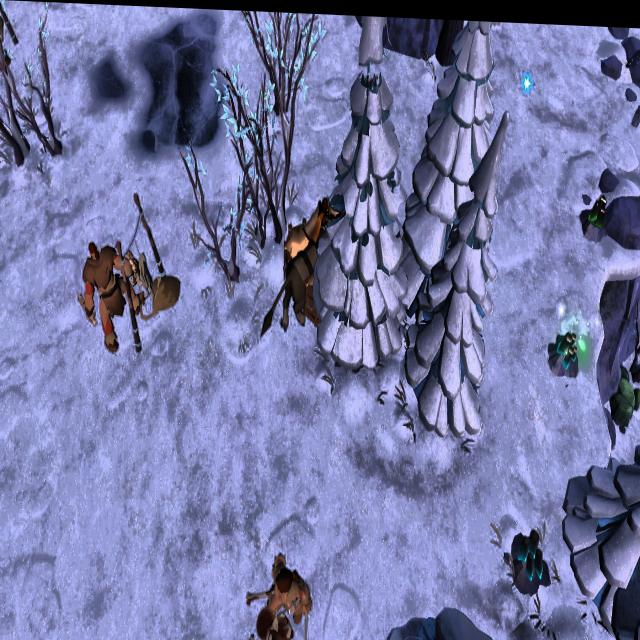enemy_factionKeeper: (76, 234, 134, 353), (259, 560, 311, 629)
ore_t3: (589, 184, 612, 229)
ore_t4: (519, 521, 546, 575), (558, 324, 582, 364)
rock_t3: (605, 348, 640, 426)
